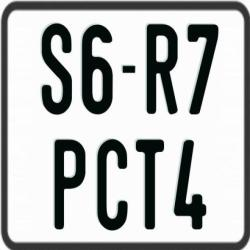4: (173, 139, 208, 232)
6: (80, 25, 112, 115)
7: (187, 23, 218, 112)
C: (98, 138, 130, 230)
P: (54, 138, 86, 227)
R: (145, 23, 176, 115)
S: (41, 23, 74, 114)
T: (136, 140, 166, 231)
